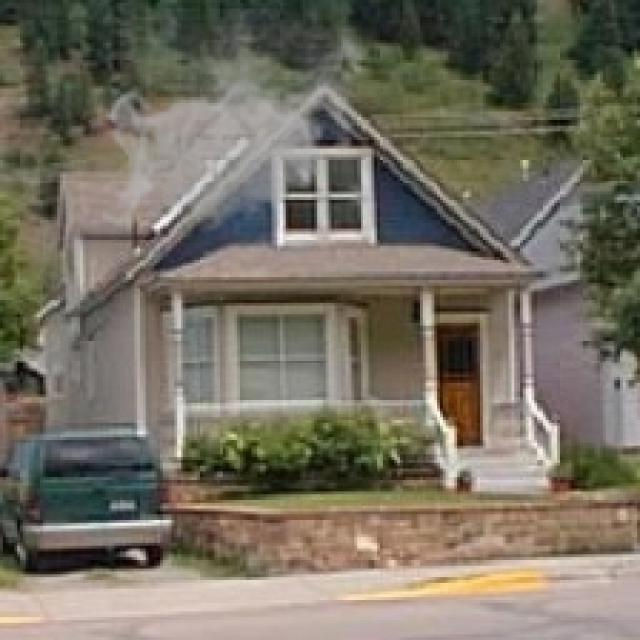smoke: (103, 9, 371, 240)
